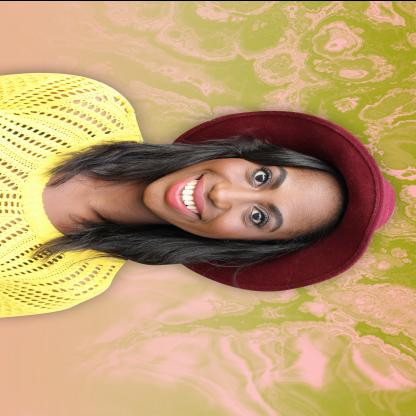hat: (162, 108, 398, 293)
